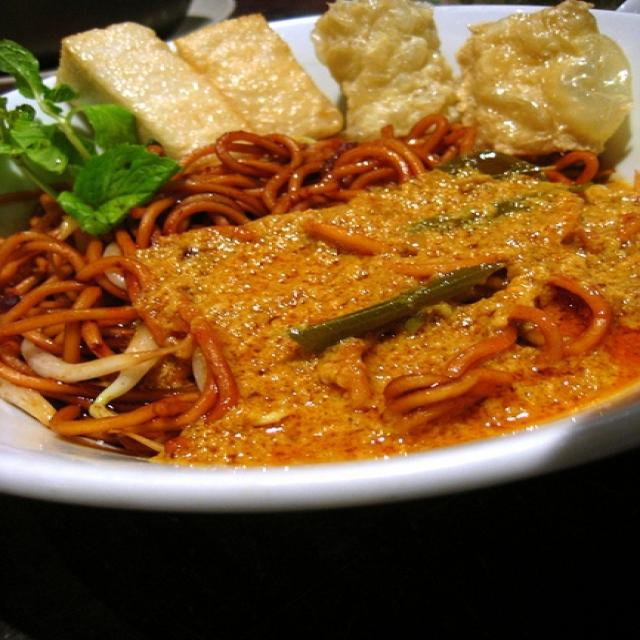面条主食: (9, 10, 631, 517)
